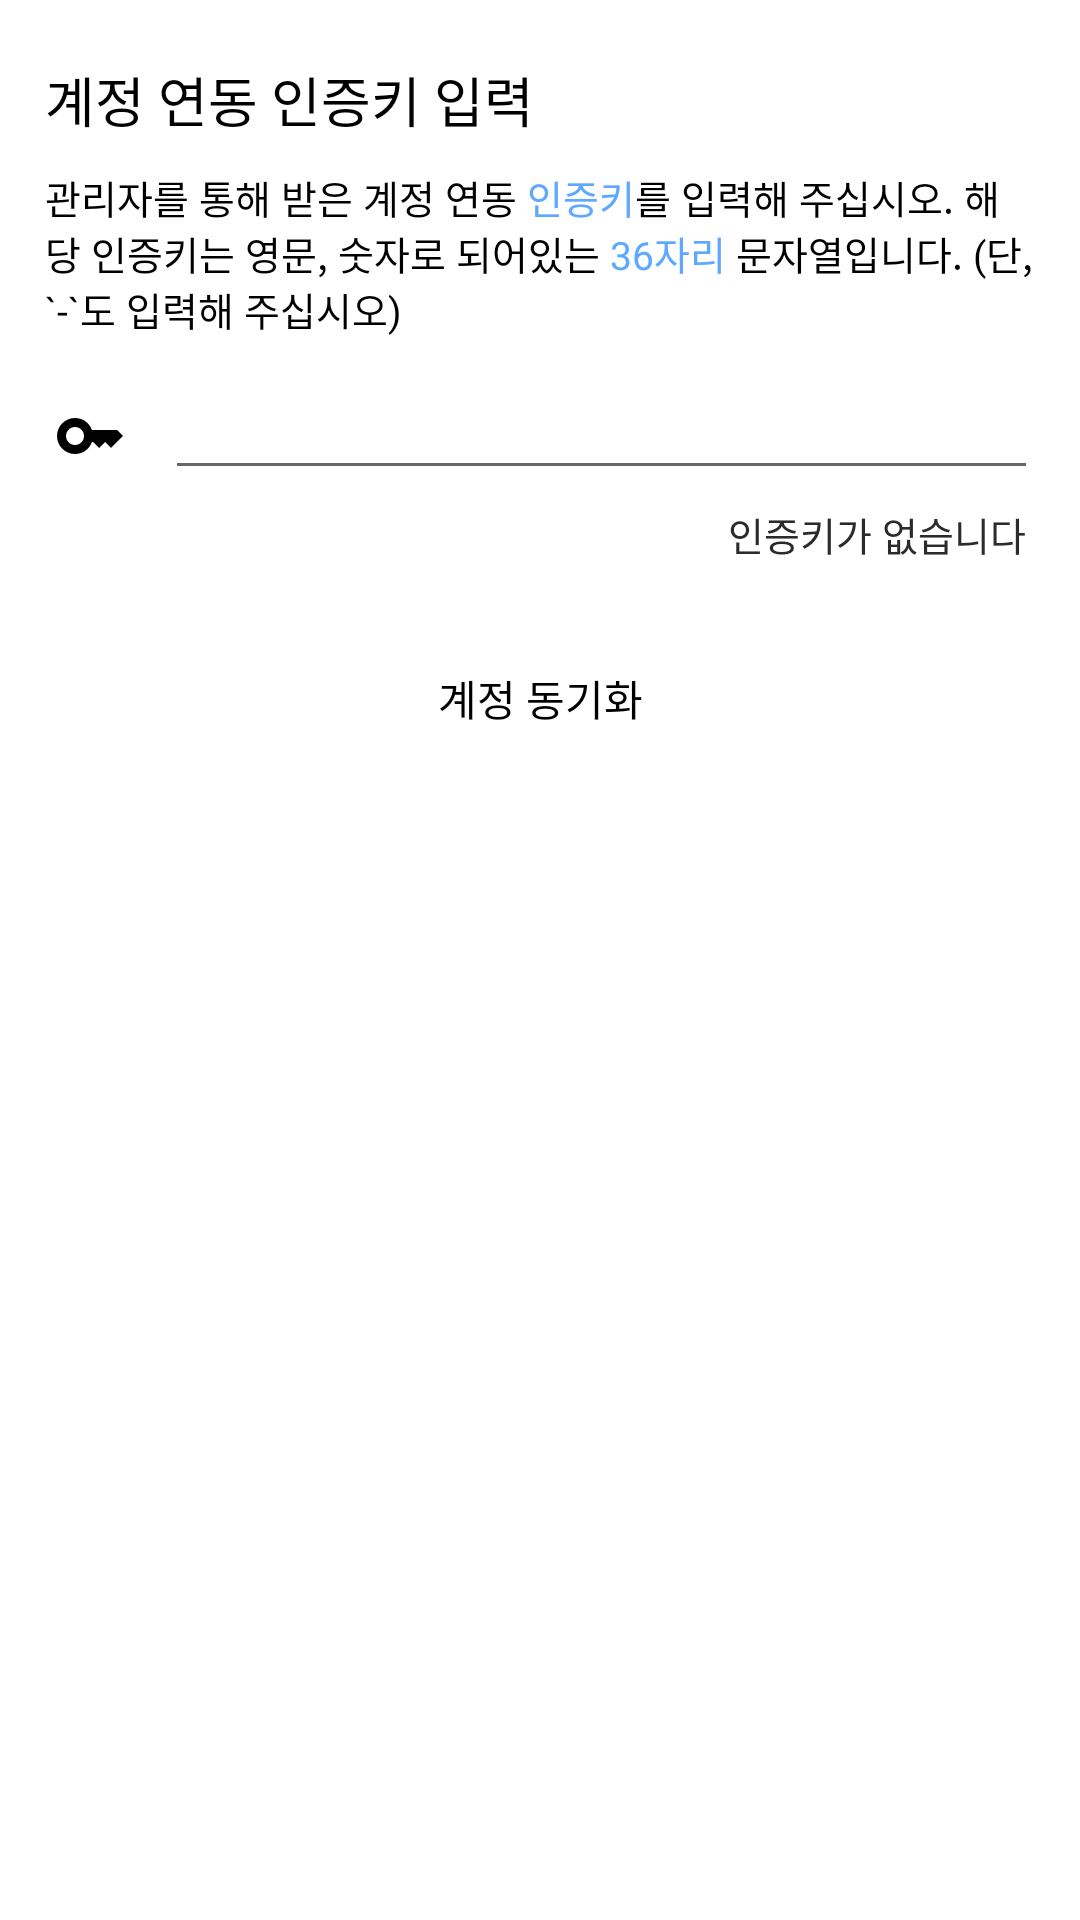

Screen size 1080px x 1920px. Icon name, then its box in pixels as (x1, y1, x2, y2):
key: (57, 418, 123, 454)
